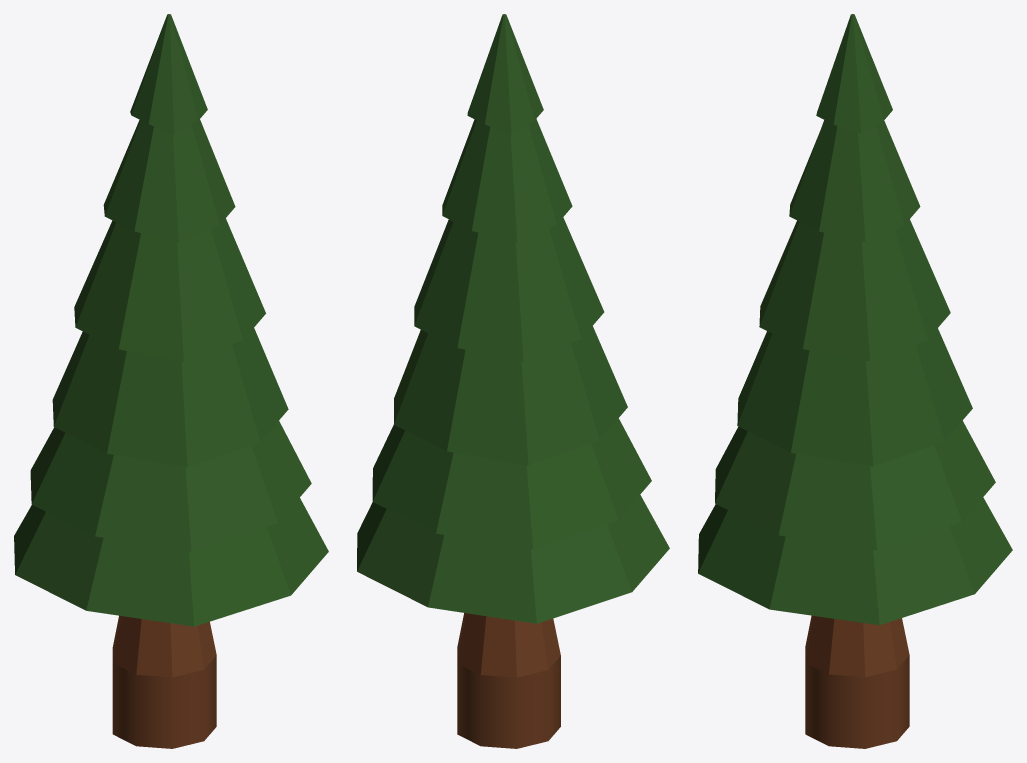
The model's file is tree00.fbx.
The picture shows the model from 3 angles, left to right: view 1: azimuth 30°, elevation 25°; view 2: azimuth 150°, elevation 25°; view 3: azimuth 270°, elevation 25°; orthographic projection.
Parts seen in each view (by area): view 1: Cylinder.001; view 2: Cylinder.001; view 3: Cylinder.001.
Part boxes in pixels (left/top/right/bottom): Cylinder.001: left=14, top=14, right=328, bottom=748; Cylinder.001: left=357, top=14, right=669, bottom=748; Cylinder.001: left=698, top=14, right=1012, bottom=748.
Bounding box in the file's own units: 8.86 × 21.89 × 8.75.
